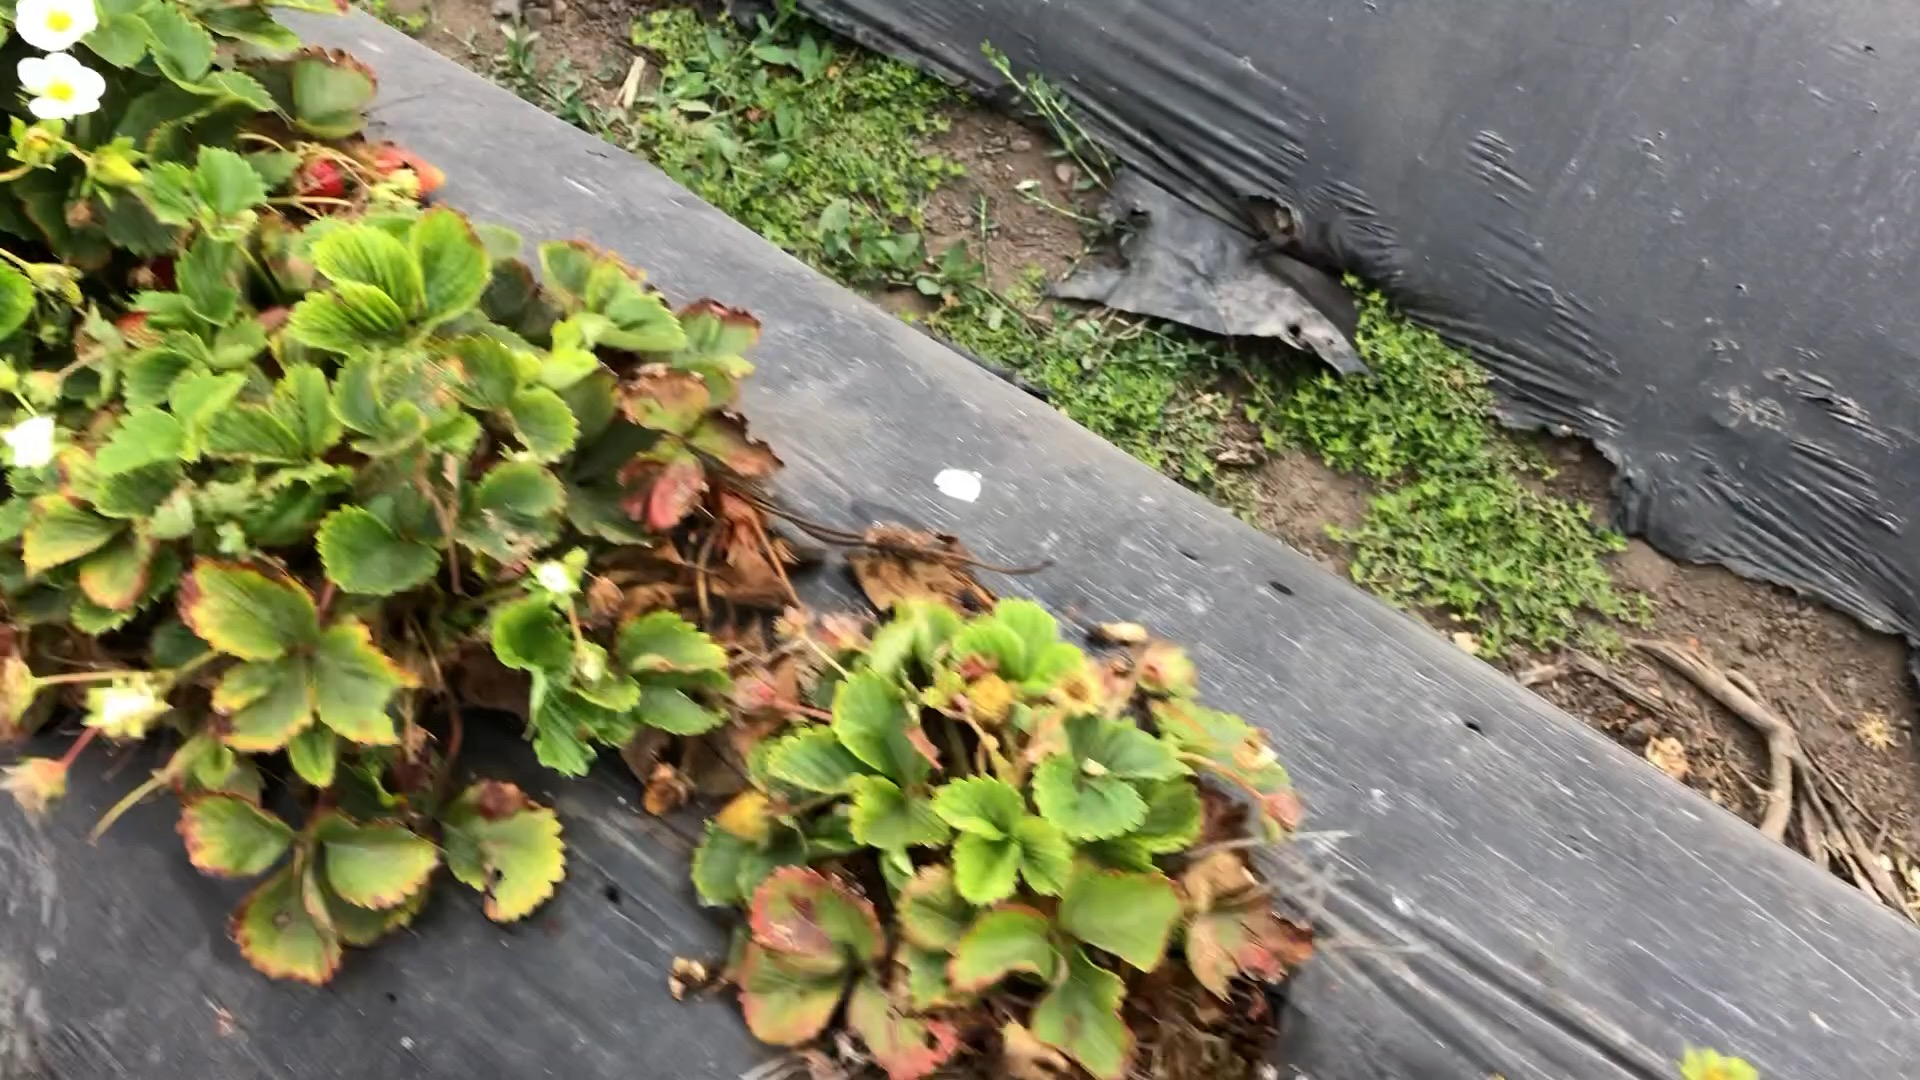ripe_strawberry: (287, 157, 351, 204)
unripe_strawberry: (361, 145, 451, 199), (713, 789, 781, 853)
